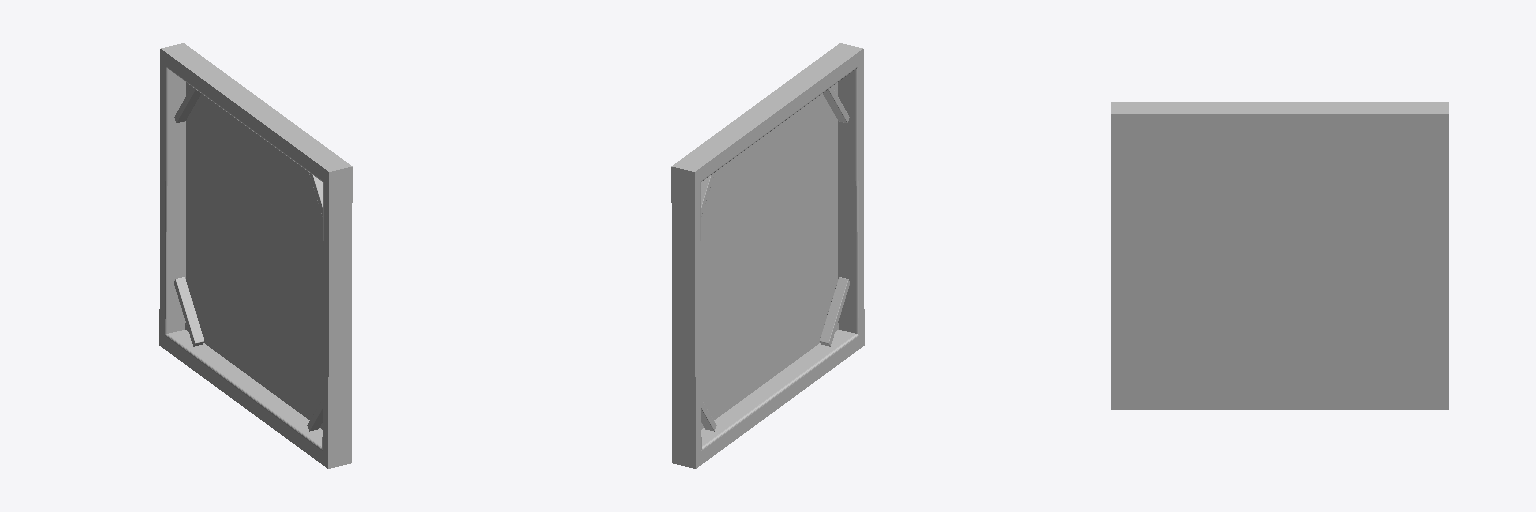
File: frame.obj
3 views of the same model, side by side, from view 1: azimuth 30°, elevation 25°; view 2: azimuth 150°, elevation 25°; view 3: azimuth 270°, elevation 25° (orthographic).
Visible parts, largest first — view 1: obj.001; view 2: obj.001; view 3: obj.001.
Part boxes in pixels (x1,y1,x2,y2): obj.001: (159, 43, 352, 468); obj.001: (671, 43, 864, 468); obj.001: (1111, 102, 1448, 409).
Size of the model in its own units: 2.99 by 34.65 by 35.72.